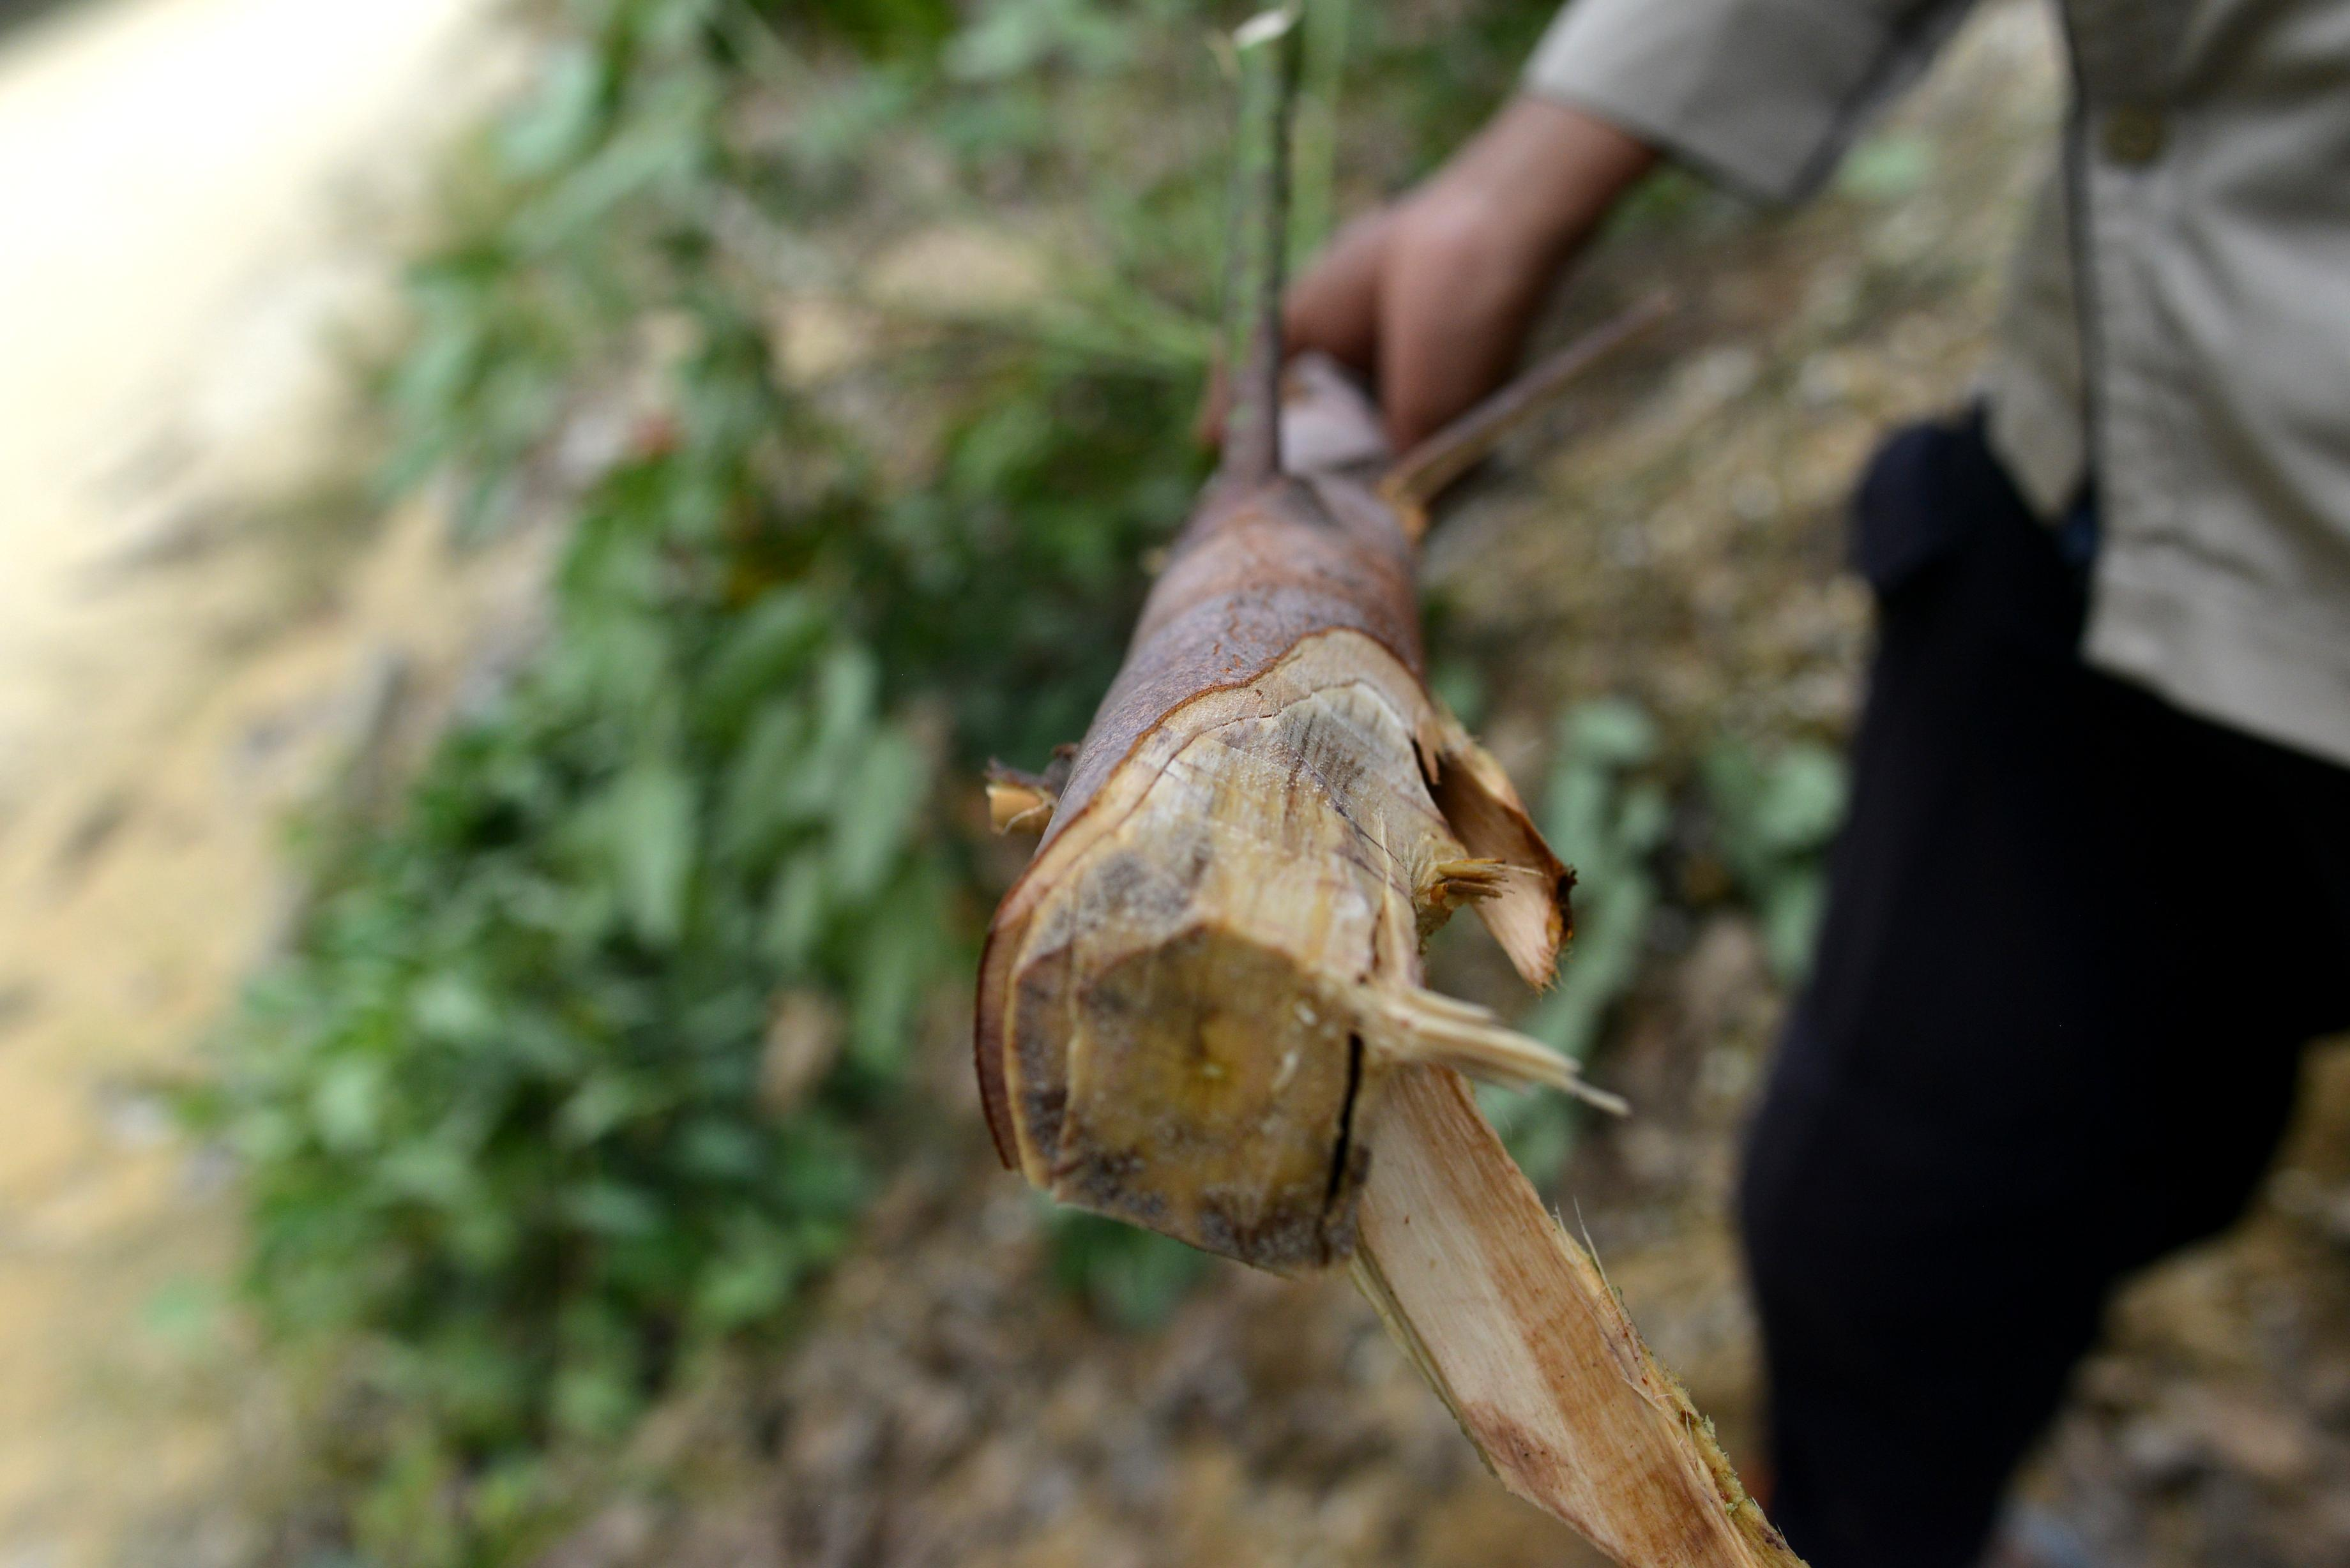Ralstonia: (1011, 978, 1169, 1230), (1076, 971, 1230, 1165), (1034, 857, 1195, 959), (1251, 992, 1335, 1139), (1216, 1186, 1342, 1277), (1279, 709, 1367, 838), (1186, 731, 1330, 793)
